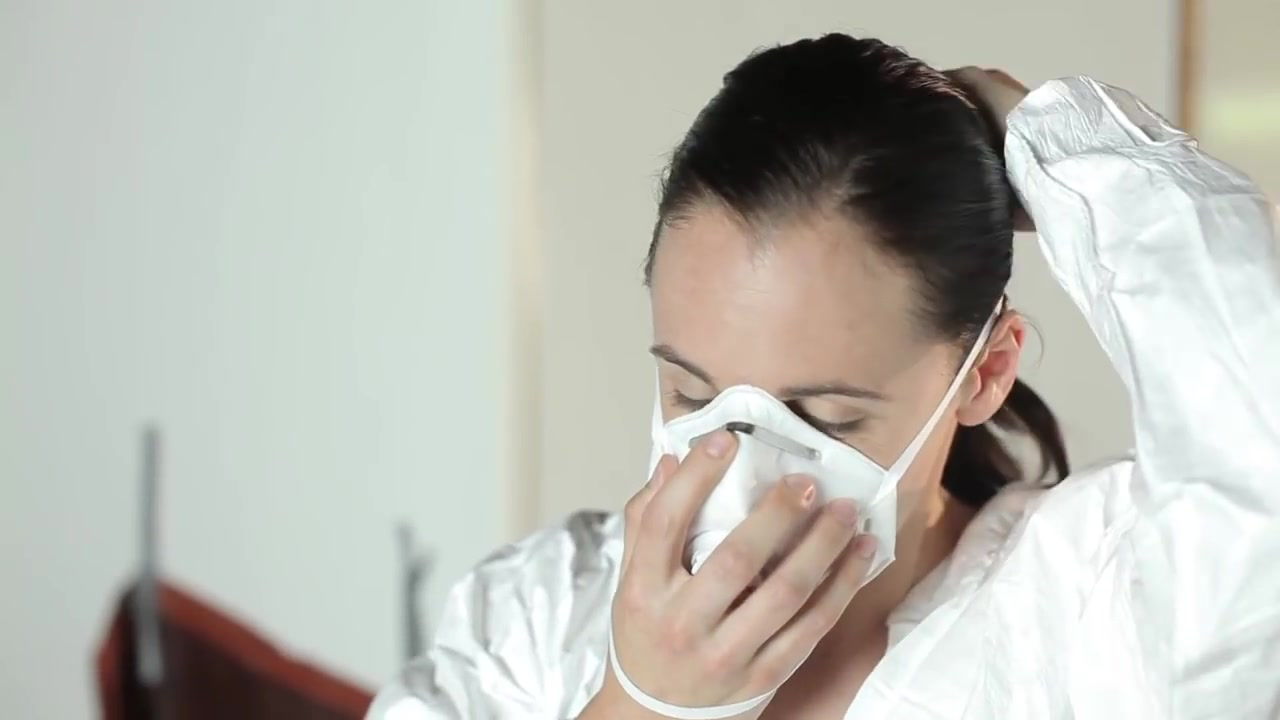Coverall: (381, 477, 1230, 720)
with_mask: (623, 356, 940, 598)
